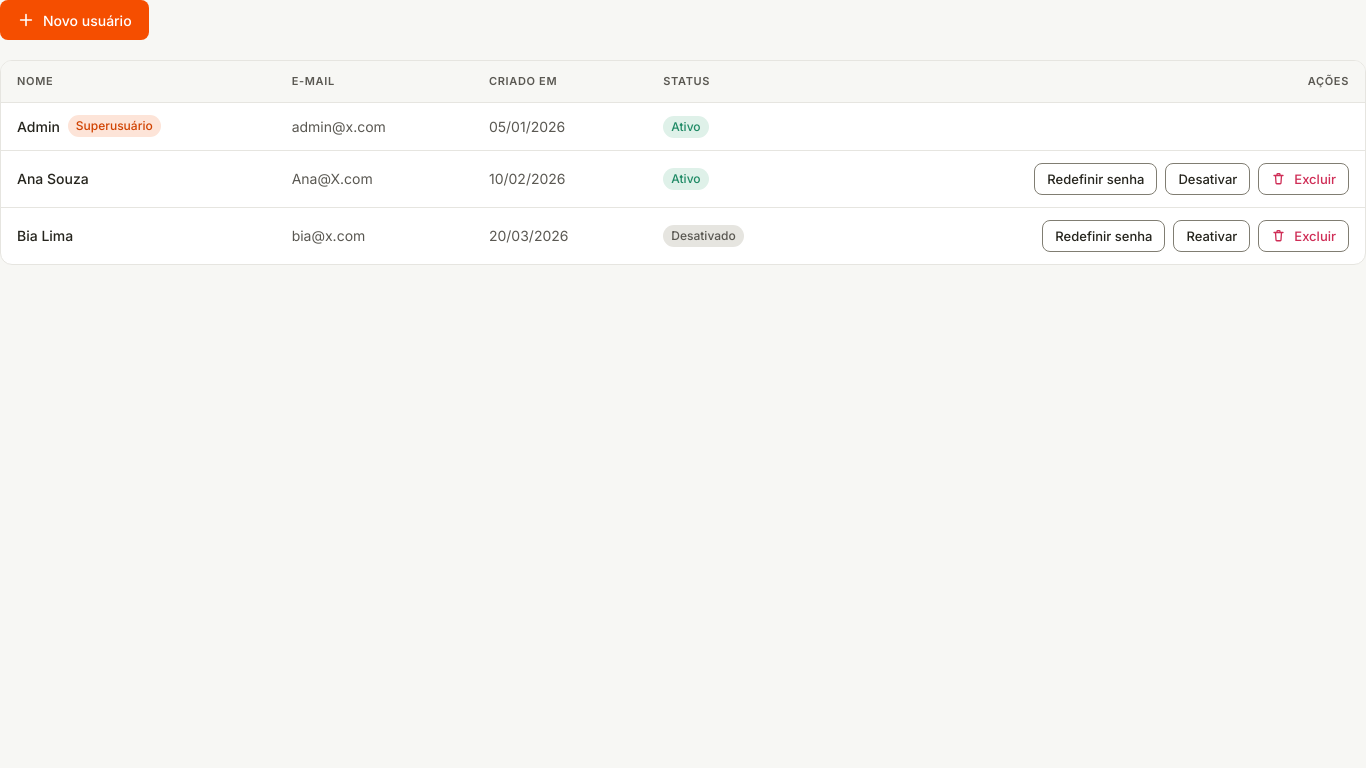
Test case: UsersView: novo usuário › envia nome, e-mail e senha, fecha o modal e avisa
The width and height of the screenshot is (1366, 768).
Click the button "Novo usuário". click: (74, 20)
box: x1=0 y1=0 x2=149 y2=40
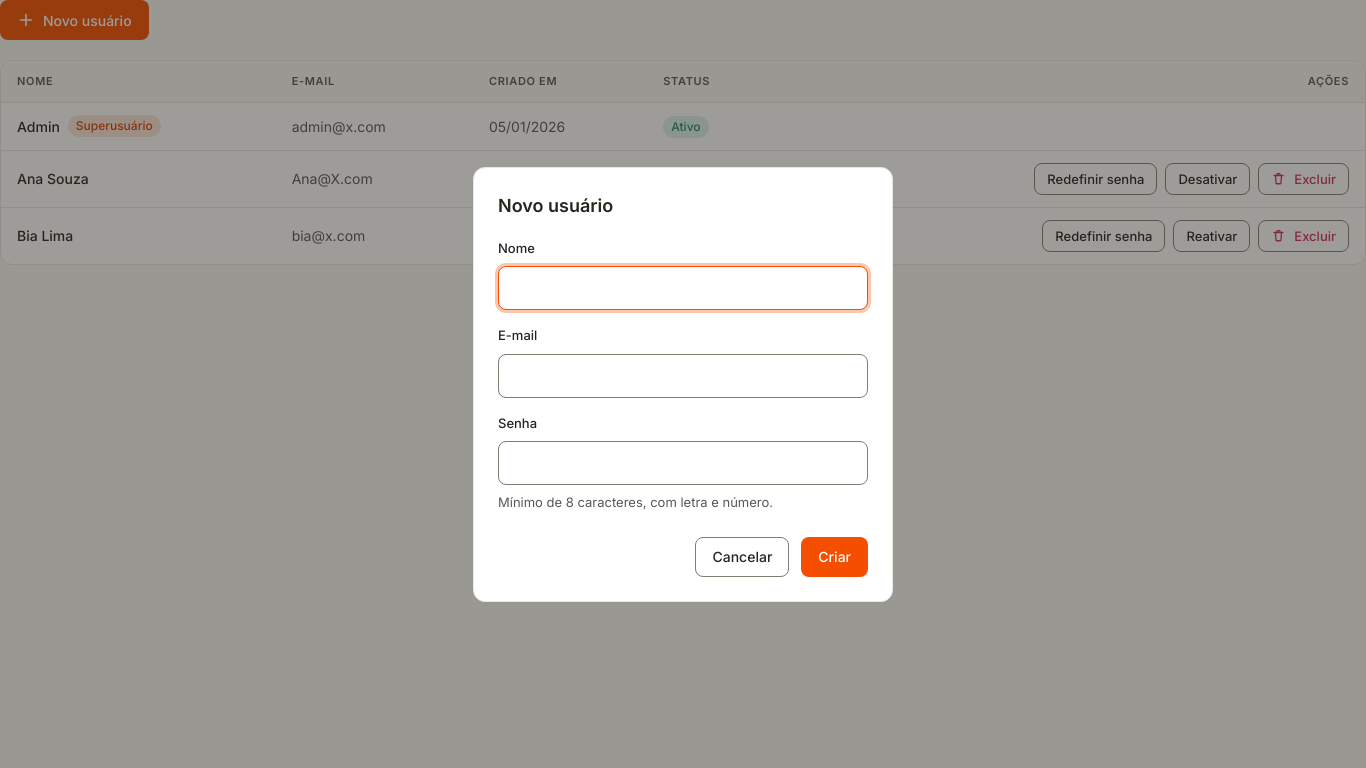
Type "Caio" into the field labelled "Nome". click: (683, 288)
box: x1=498 y1=266 x2=868 y2=310
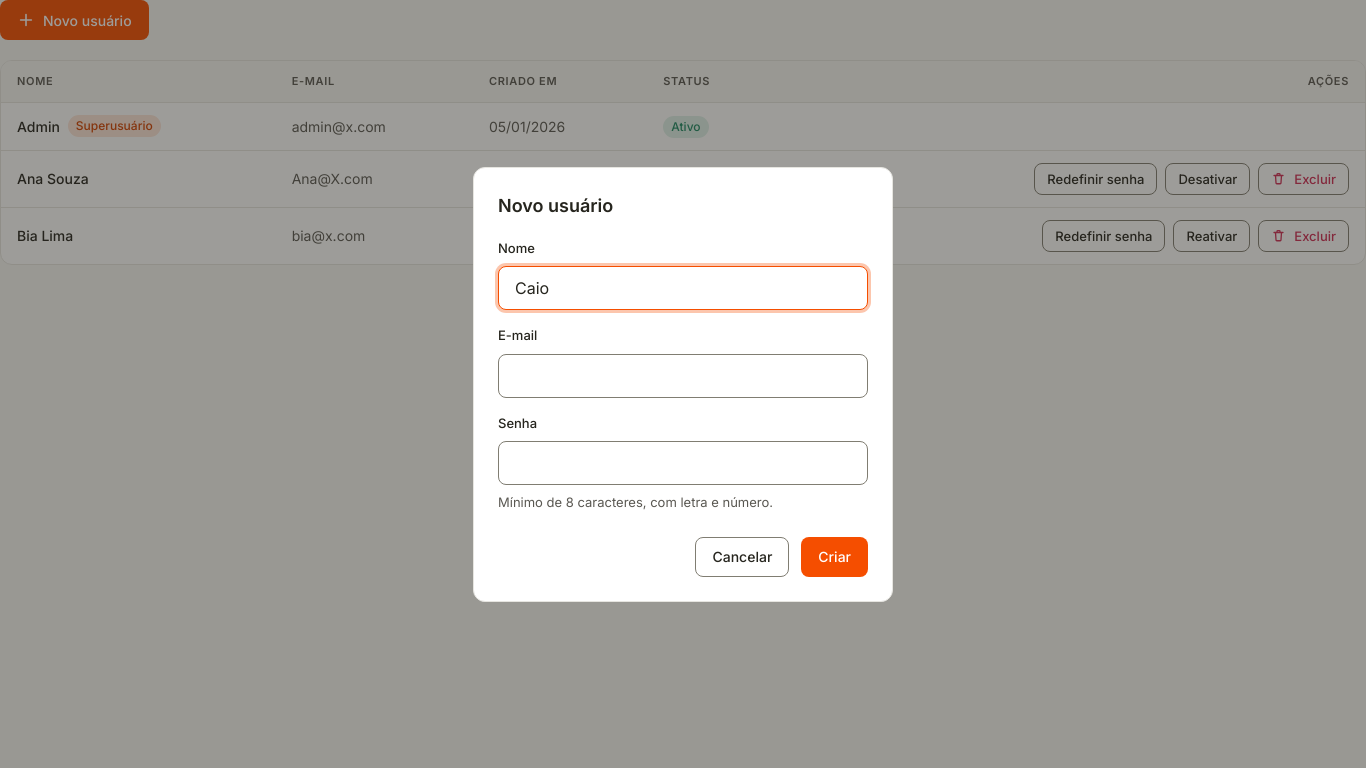
Type "caio@x.com" into the field labelled "E-mail". click: (683, 376)
box: x1=498 y1=354 x2=868 y2=398
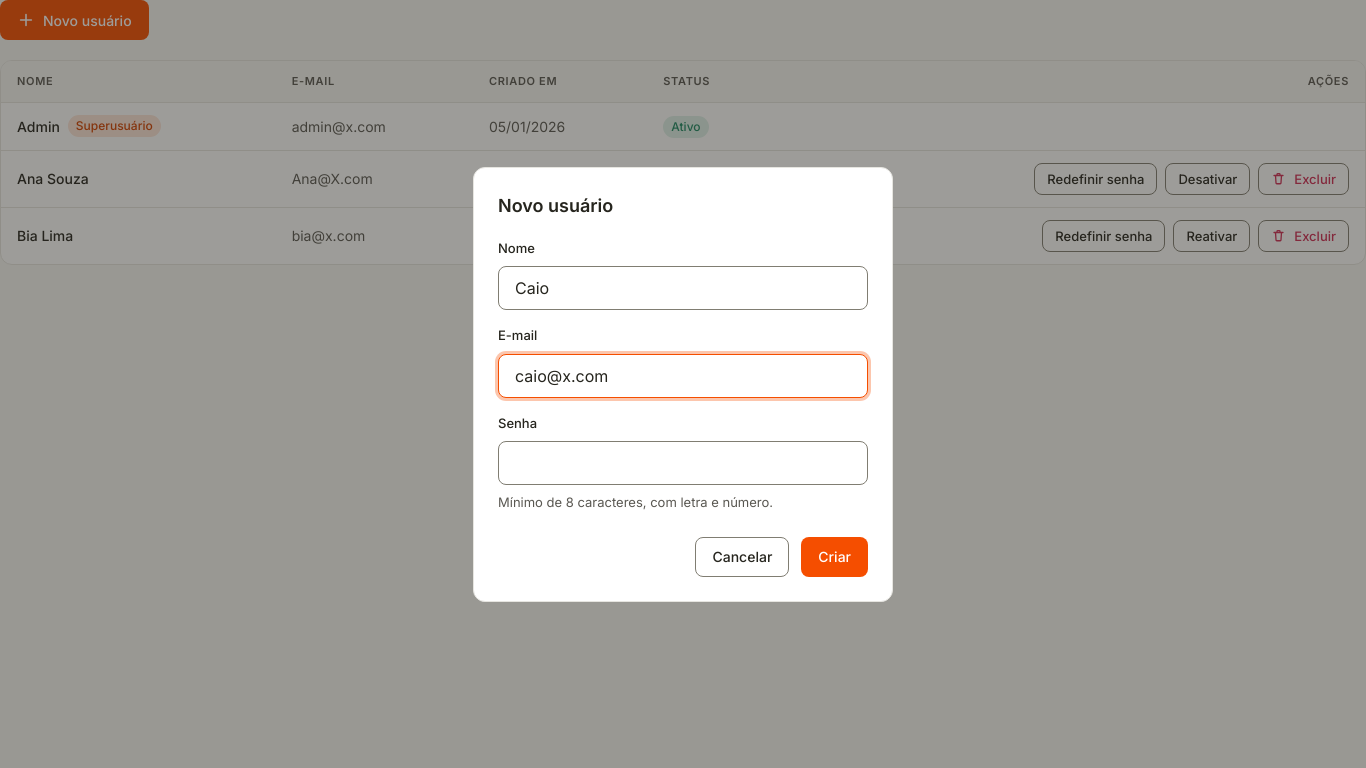
Type "Senha1234" into the password field labelled "Senha". click: (683, 463)
box: x1=498 y1=441 x2=868 y2=485
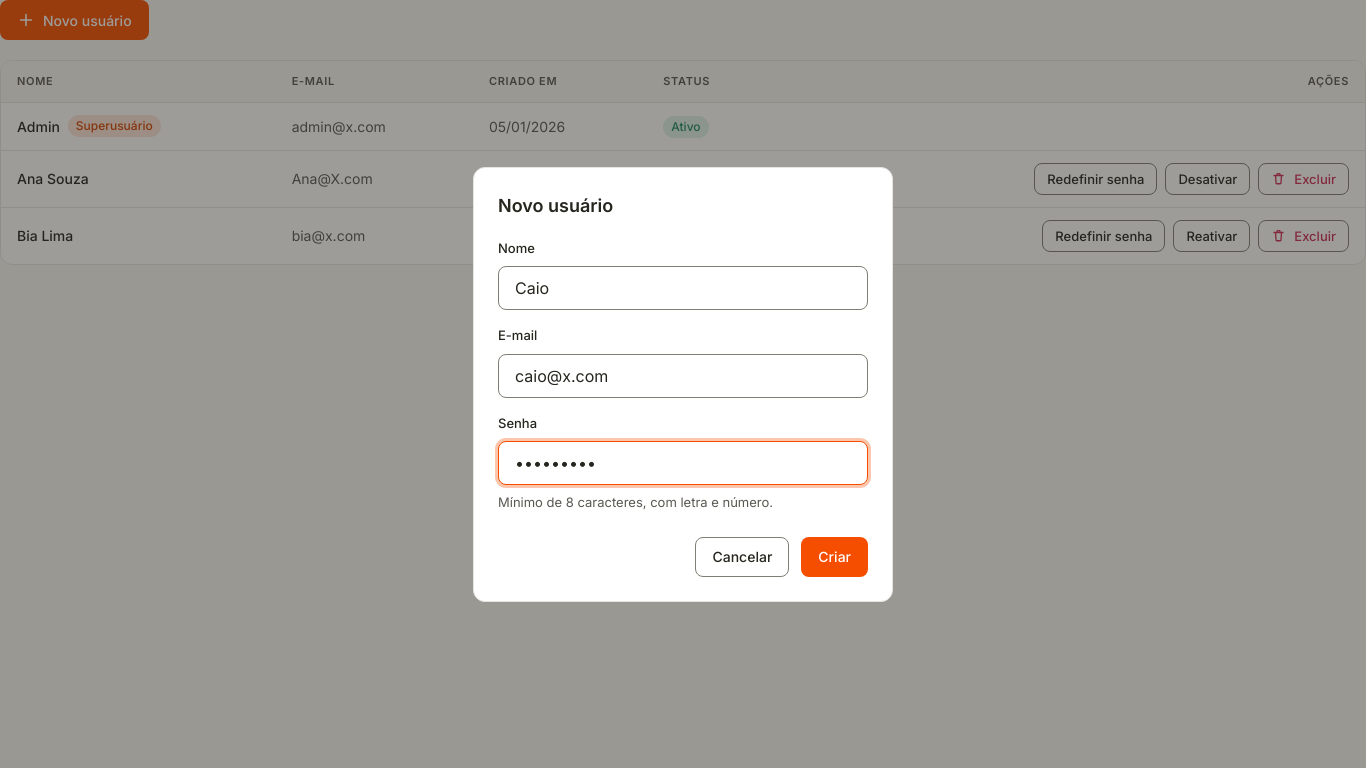
Click the button "Criar". click: (835, 556)
box: x1=801 y1=536 x2=868 y2=576
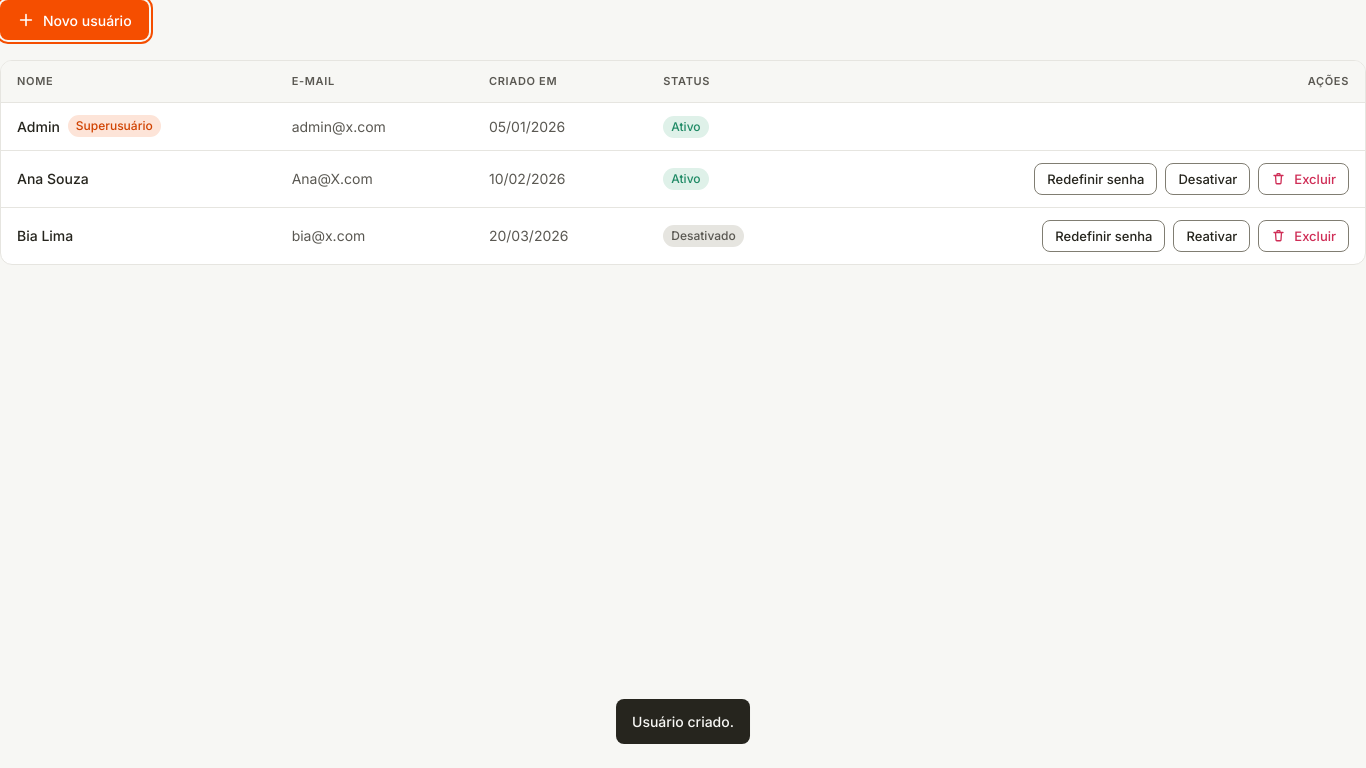
Result: the message reads "Usuário criado." at x1=632 y1=713 x2=734 y2=730
Result: the dialog is gone
